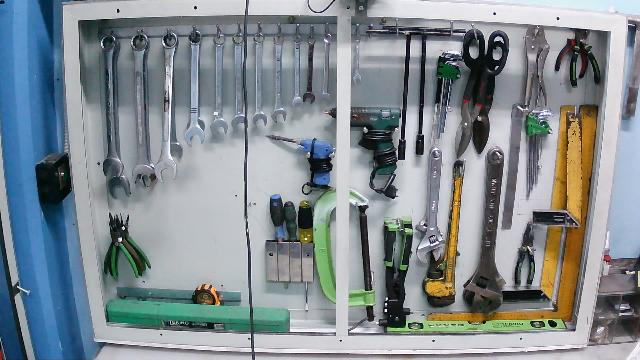kunci_l: (432, 45, 467, 144)
